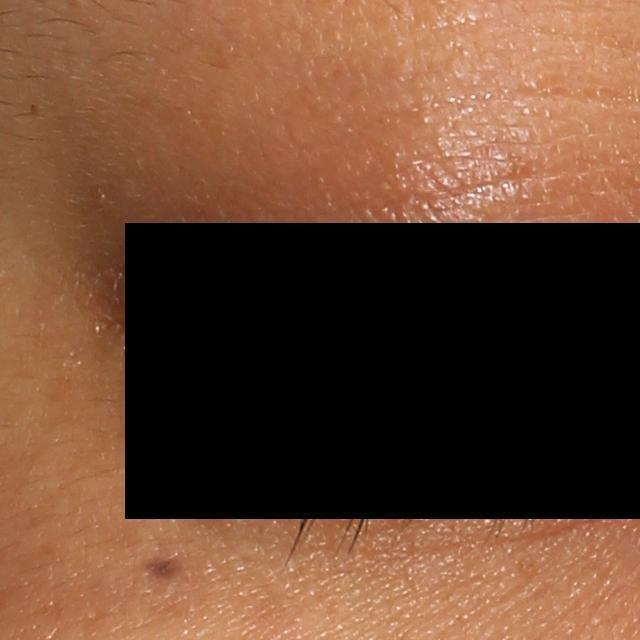nevus: (133, 550, 191, 586)
